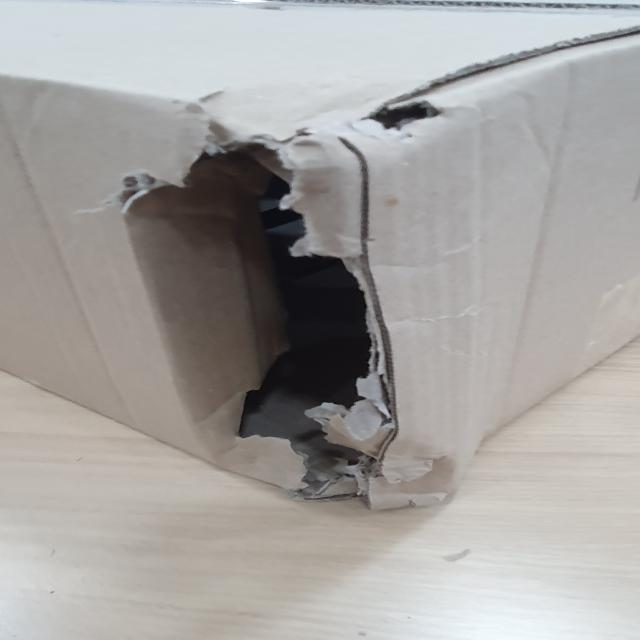hole: (106, 95, 492, 508)
